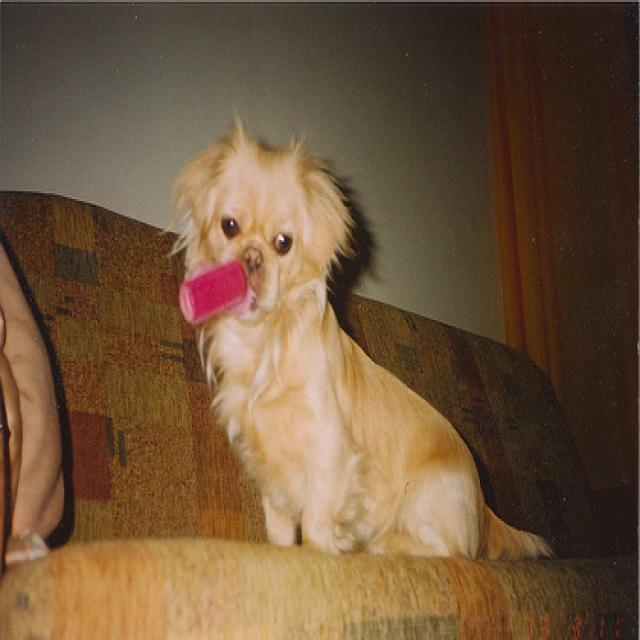dog-japanese_chin: (175, 109, 567, 585)
